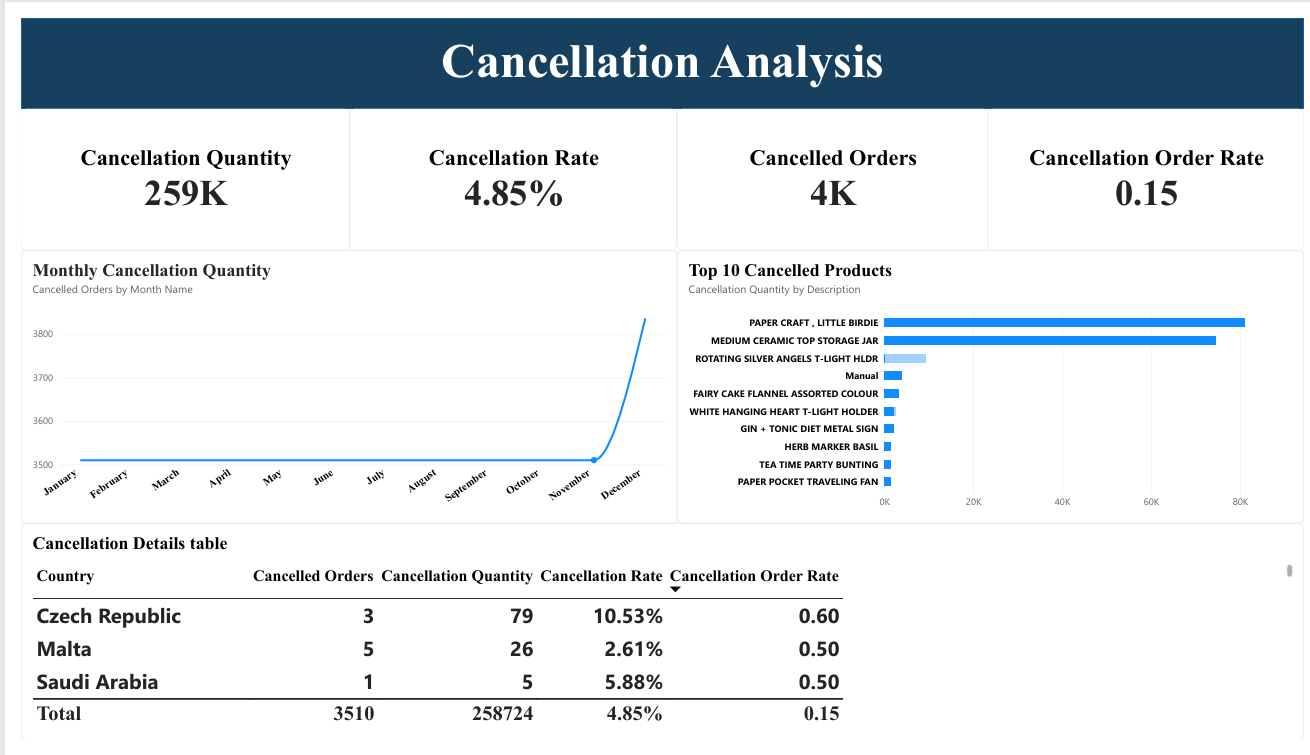

What the dashboard file says about the page in this screenshot:
{"tool":"powerbi","page":{"name":"Cancellation Analysis","canvas":[1920,1080],"ordinal":4},"visuals":[{"type":"shape","box":[0,0,1920.4,135.8],"z":0},{"type":"cardVisual","fields":{"Data":["DateTable.Cancellation Quantity"]},"box":[0,135.8,492,212],"z":0,"group":"g1"},{"type":"cardVisual","fields":{"Data":["DateTable.Cancellation Order Rate"]},"box":[1446.6,135.8,473.5,212],"z":0,"group":"g5"},{"type":"cardVisual","fields":{"Data":["DateTable.Cancellation Rate"]},"box":[491.9,136.1,489.9,212],"z":0,"group":"g3"},{"type":"cardVisual","fields":{"Data":["DateTable.Cancelled Orders"]},"box":[981.8,136.1,465.2,212],"z":0,"group":"g4"},{"type":"textbox","box":[0,22.6,1920.4,113.2],"z":1000},{"type":"group","id":"g1","title":"Group 1","box":[0,135.8,491.9,212],"z":2000,"group":"g2"},{"type":"group","id":"g2","title":"Group 2","box":[0,135.8,1920,212.3],"z":2000},{"type":"group","id":"g3","title":"Group 1","box":[491.9,136.1,489.9,212],"z":3000,"group":"g2"},{"type":"clusteredColumnChart","title":"Monthly Cancellation Quantity","fields":{"Category":["DateTable.Month Year"],"Y":["DateTable.Cancelled Orders"]},"box":[0,347.9,981.8,409.6],"z":3000},{"type":"group","id":"g4","title":"Group 1","box":[981.8,136.1,465.2,212],"z":4000,"group":"g2"},{"type":"clusteredBarChart","title":"Top 10 Cancelled Products","fields":{"Category":["EcommerceData.Description"],"Y":["DateTable.Cancellation Quantity"]},"box":[981.8,347.9,938.6,409.6],"z":4000},{"type":"group","id":"g5","title":"Group 1","box":[1446.6,135.8,473.4,212],"z":5000,"group":"g2"},{"type":"tableEx","title":"Cancellation Details table","fields":{"Values":["EcommerceData.Country","DateTable.Cancelled Orders","DateTable.Cancellation Quantity","DateTable.Cancellation Rate","DateTable.Cancellation Order Rate"]},"box":[0,757.5,1920.4,323.2],"z":5000}]}

Visuals, with their boxes in screenshot pixels (x1, y1, x2, y2), scaled from the page's 1920x1080 canvas onto the 1310x755 screenshot:
shape: [0,0,1309,95]
cardVisual - DateTable.Cancellation Quantity: [0,95,336,243]
cardVisual - DateTable.Cancellation Order Rate: [987,95,1309,243]
cardVisual - DateTable.Cancellation Rate: [336,95,670,243]
cardVisual - DateTable.Cancelled Orders: [670,95,987,243]
textbox: [0,16,1309,95]
"Group 1" group: [0,95,336,243]
"Group 2" group: [0,95,1309,243]
"Group 1" group: [336,95,670,243]
"Monthly Cancellation Quantity" clusteredColumnChart: [0,243,670,530]
"Group 1" group: [670,95,987,243]
"Top 10 Cancelled Products" clusteredBarChart: [670,243,1309,530]
"Group 1" group: [987,95,1309,243]
"Cancellation Details table" tableEx: [0,530,1309,754]
